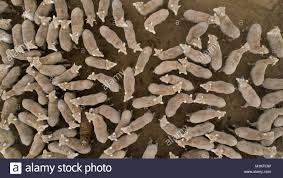sheep: (213, 4, 240, 39), (223, 41, 250, 75), (251, 55, 279, 87), (109, 109, 133, 146), (178, 56, 213, 81), (99, 25, 128, 55), (236, 75, 262, 108), (26, 56, 66, 77), (120, 111, 155, 135), (235, 124, 275, 145), (7, 114, 32, 147), (57, 96, 81, 130), (2, 73, 34, 98), (237, 139, 277, 159), (80, 29, 105, 59), (182, 8, 221, 27), (247, 23, 270, 55), (144, 7, 169, 36), (59, 14, 77, 53), (165, 93, 194, 117), (86, 111, 107, 144), (87, 71, 120, 92), (160, 73, 194, 93), (159, 114, 185, 140), (186, 107, 228, 123), (37, 128, 78, 144), (55, 79, 96, 95), (186, 21, 209, 49), (124, 19, 143, 52), (175, 136, 214, 152), (20, 19, 39, 51), (34, 14, 50, 51), (134, 46, 153, 77), (20, 99, 48, 120), (184, 121, 216, 139), (153, 44, 186, 61), (205, 130, 237, 147), (45, 90, 59, 127), (132, 1, 168, 14), (121, 67, 134, 102), (132, 94, 165, 107), (112, 1, 128, 27), (12, 23, 25, 54), (81, 1, 96, 26), (96, 1, 110, 23)
